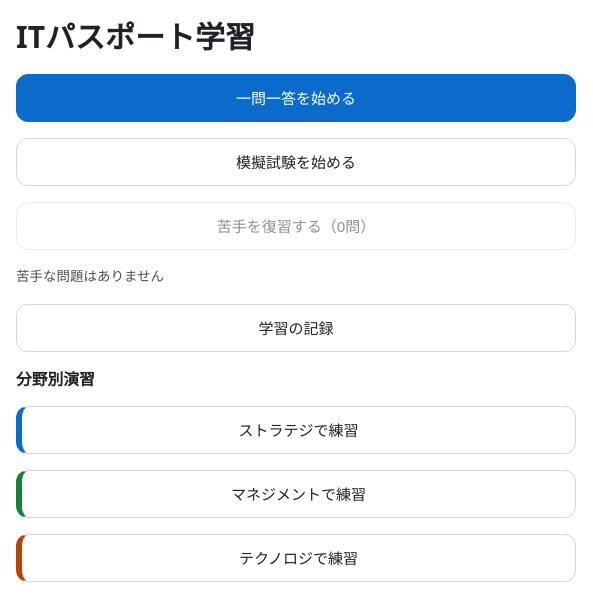
Scenario: 解答中の画面 › 進捗・分野名・問題文・4つの選択肢が表示される
The width and height of the screenshot is (593, 599).
Click the button "模擬試験を始める" at (296, 162), box [16, 138, 576, 186]
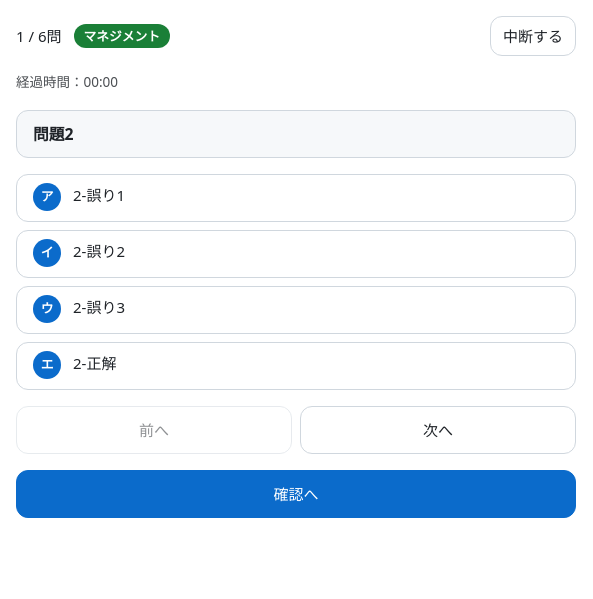
Result: the text "1 / 6問" is shown at [16, 24, 62, 48]
Result: the heading "問題2" is shown at [33, 123, 74, 145]
Result: the number of buttons "ア 2-誤り1" is 4 at [16, 174, 576, 222]; [16, 230, 576, 278]; [16, 286, 576, 334]; [16, 342, 576, 390]
